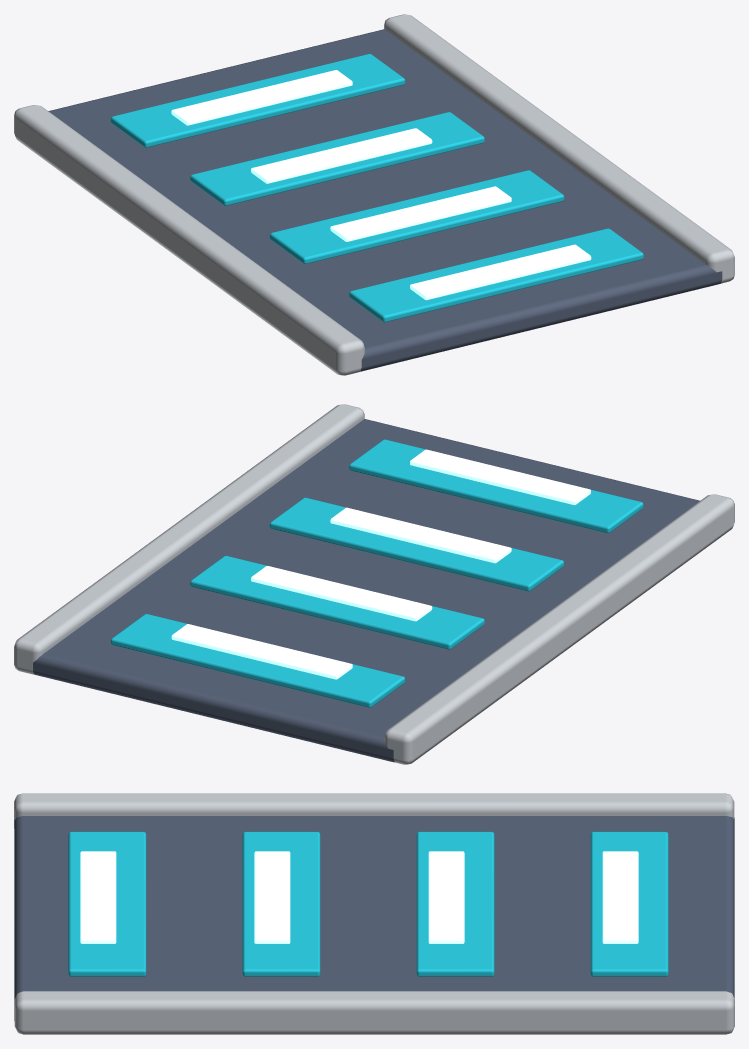
The model's file is hero-shooter-harbour-payload-interactive-speed-pad-d1daf281__27683.glb.
3 renders of one model, top to bottom at view 1: azimuth 30°, elevation 25°; view 2: azimuth 150°, elevation 25°; view 3: azimuth 270°, elevation 25°, orthographic. The views are drawn at different scales.
Parts seen in each view (by area): view 1: interactive-speed-pad; view 2: interactive-speed-pad; view 3: interactive-speed-pad.
Part boxes in pixels (left/top/right/bottom): interactive-speed-pad: left=14, top=14, right=734, bottom=375; interactive-speed-pad: left=14, top=404, right=734, bottom=764; interactive-speed-pad: left=14, top=793, right=734, bottom=1034.
Bounding box in the file's own units: 1.68 × 0.135 × 2.4.
